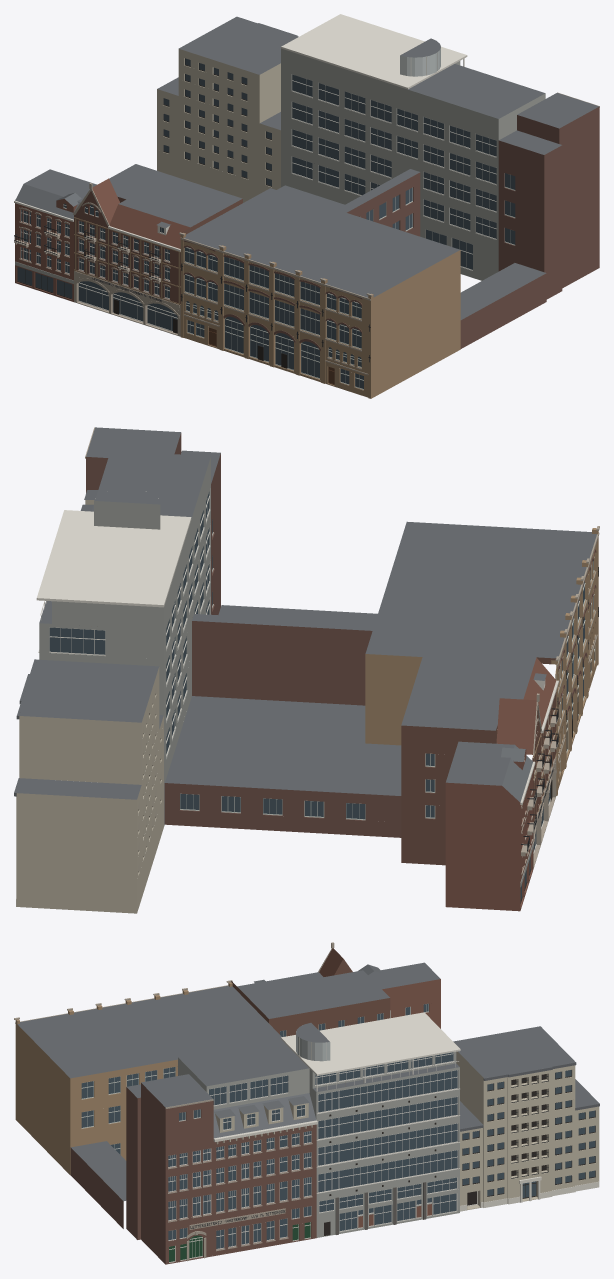
Rendered from da-costakade-146.glb.
3 views of the same model, one above another, from view 1: azimuth 30°, elevation 25°; view 2: azimuth 150°, elevation 25°; view 3: azimuth 270°, elevation 25° (orthographic). The views are drawn at different scales.
Parts seen in each view (by area): view 1: da-costakade-146; view 2: da-costakade-146; view 3: da-costakade-146.
Part boxes in pixels (x1,y1,x2,y2): da-costakade-146: [14, 14, 599, 398]; da-costakade-146: [14, 427, 599, 913]; da-costakade-146: [14, 942, 599, 1264].
Bounding box in the file's own units: 83.01 × 32.6 × 94.66.
